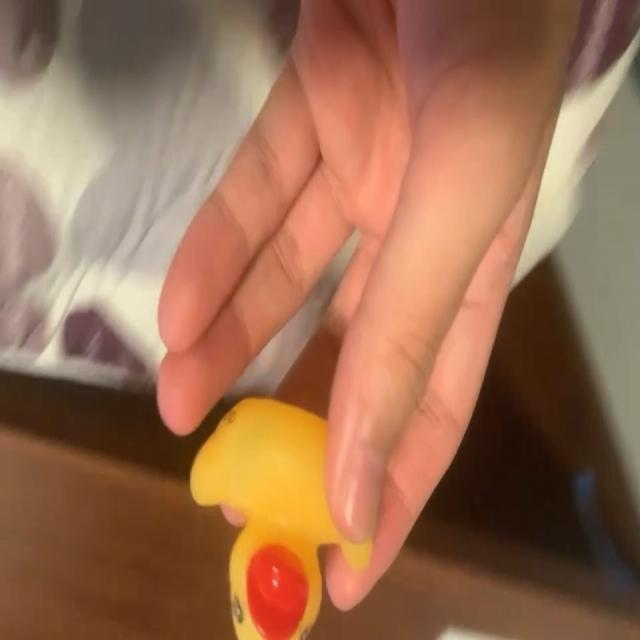rubber-duck: (190, 397, 369, 638)
